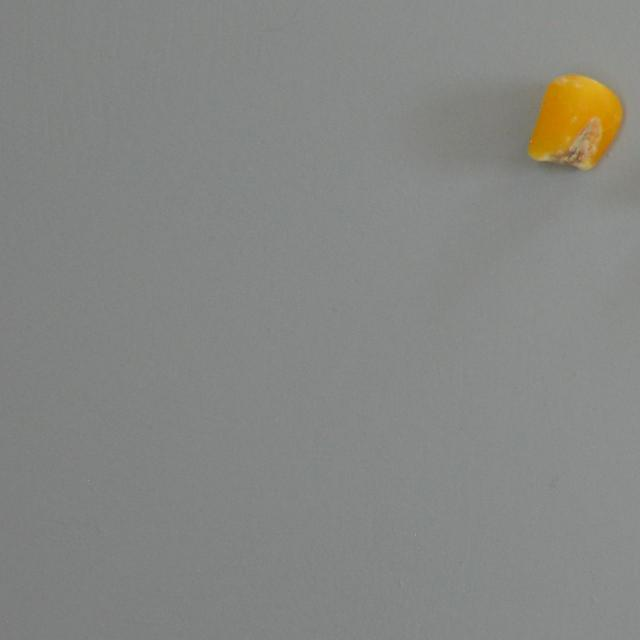dañado: (522, 70, 634, 177)
